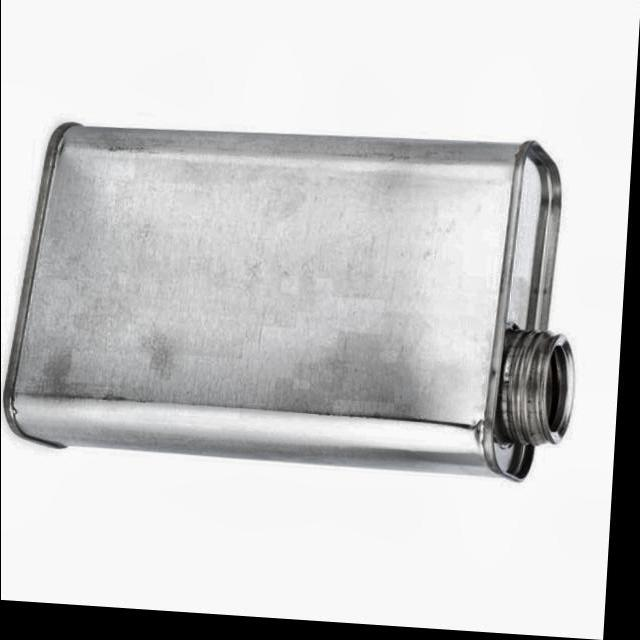Aluminum Can: (1, 111, 600, 492)
